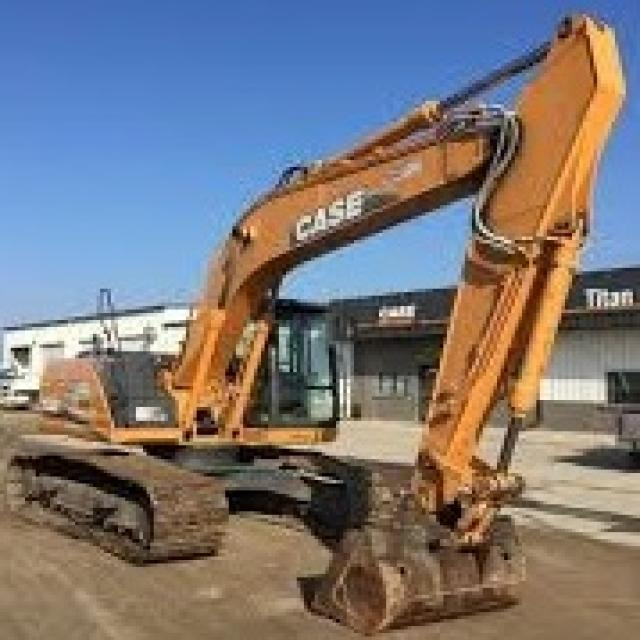excavator: (25, 286, 392, 565)
